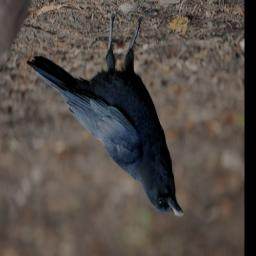Crow: (27, 6, 187, 218)
